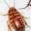cockroach: (8, 7, 24, 31)
